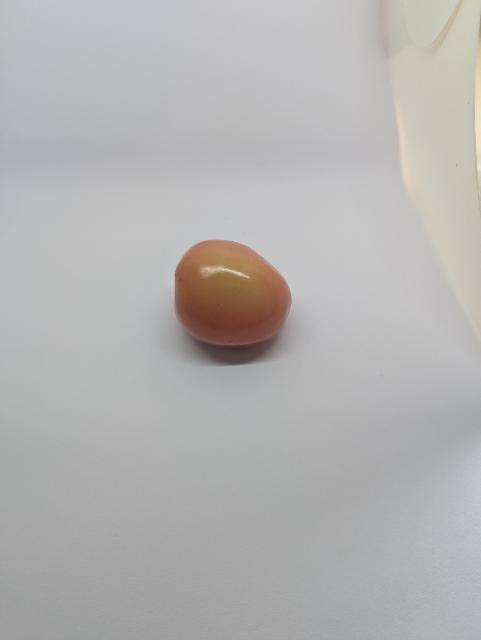turning: (168, 235, 305, 355)
